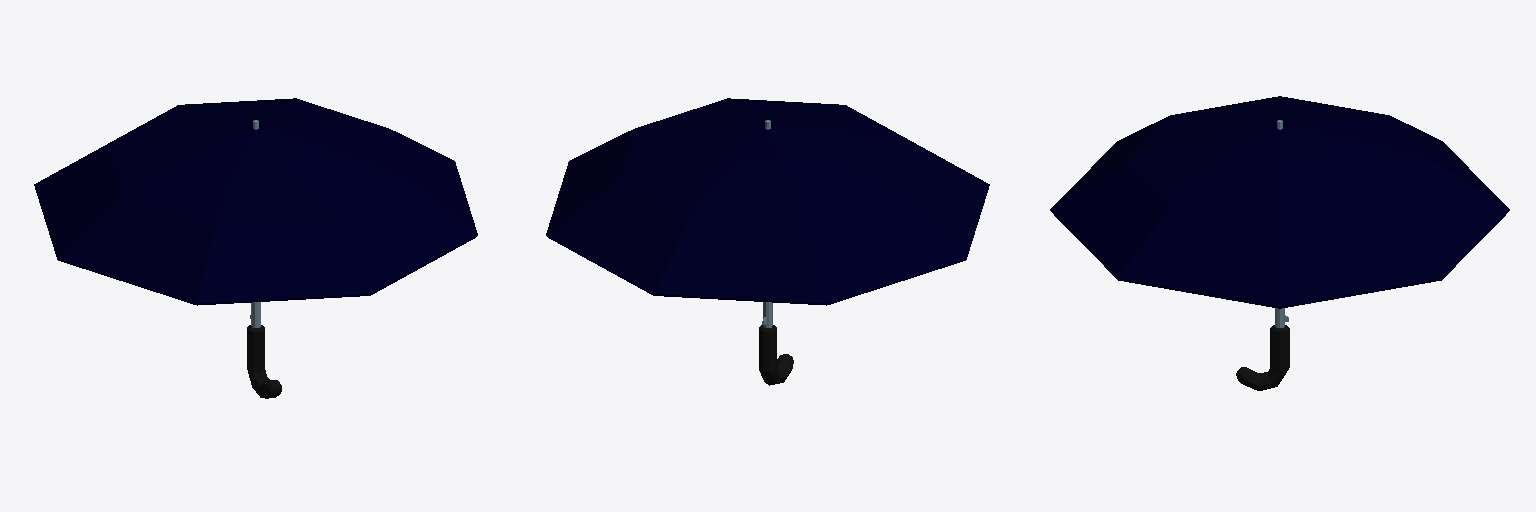
Rendered from Umbrella_01.obj.
3 views of the same model, side by side, from view 1: azimuth 30°, elevation 25°; view 2: azimuth 150°, elevation 25°; view 3: azimuth 270°, elevation 25° (orthographic).
Parts seen in each view (by area): view 1: Umbrella_Circle.001; view 2: Umbrella_Circle.001; view 3: Umbrella_Circle.001.
Part boxes in pixels (left/top/right/bottom): Umbrella_Circle.001: left=34, top=98, right=477, bottom=398; Umbrella_Circle.001: left=546, top=98, right=989, bottom=385; Umbrella_Circle.001: left=1050, top=96, right=1509, bottom=390.
Size of the model in its own units: 15.27 by 9.9 by 15.27.